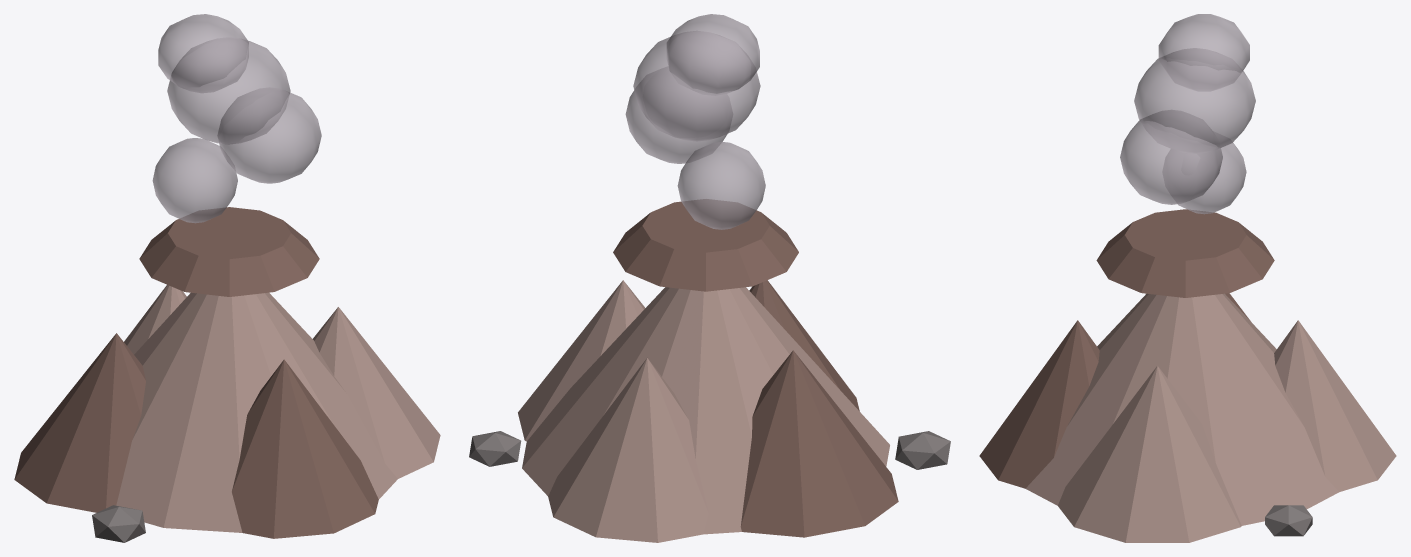
Rendered from volcano.glb.
The picture shows the model from 3 angles, left to right: view 1: azimuth 30°, elevation 25°; view 2: azimuth 150°, elevation 25°; view 3: azimuth 270°, elevation 25°; orthographic projection. The views are drawn at different scales.
Parts seen in each view (by area): view 1: body_main, body_back, body_l, crater_rim, smoke3, body_r, smoke2, smoke4, smoke1, ash2, body_front; view 2: body_main, body_l, body_front, crater_rim, smoke3, smoke2, smoke4, smoke1, body_r, body_back, ash2, ash1; view 3: body_main, body_r, crater_rim, smoke3, body_front, body_back, smoke2, smoke4, smoke1, ash1.
Boxes of the visible parts, box(x1,y1,x2,y2) form: body_main: box(116, 292, 397, 532); body_back: box(232, 359, 378, 538); body_l: box(14, 333, 145, 512); crater_rim: box(139, 207, 319, 296); smoke3: box(167, 37, 290, 144); body_r: box(313, 307, 440, 478); smoke2: box(217, 87, 321, 183); smoke4: box(158, 14, 248, 92); smoke1: box(152, 138, 237, 223); ash2: box(92, 505, 145, 542); body_front: box(124, 285, 186, 354); body_main: box(522, 287, 889, 534); body_l: box(740, 350, 898, 537); body_front: box(548, 358, 708, 542); crater_rim: box(613, 199, 798, 291); smoke3: box(633, 31, 760, 141); smoke2: box(625, 66, 732, 163); smoke4: box(666, 14, 759, 95); smoke1: box(677, 141, 765, 229); body_r: box(518, 280, 645, 441); body_back: box(749, 280, 859, 411); ash2: box(895, 431, 950, 469); ash1: box(469, 431, 521, 466); body_main: box(1025, 293, 1338, 525); body_r: box(1058, 366, 1241, 542); crater_rim: box(1096, 209, 1274, 297); smoke3: box(1134, 48, 1255, 153); body_front: box(1274, 320, 1396, 491); body_back: box(979, 320, 1099, 488); smoke2: box(1120, 110, 1222, 204); smoke4: box(1158, 14, 1249, 91); smoke1: box(1163, 132, 1246, 214); ash1: box(1265, 505, 1312, 536).
Bounding box in the file's own units: 4.44 × 5.18 × 4.45.
